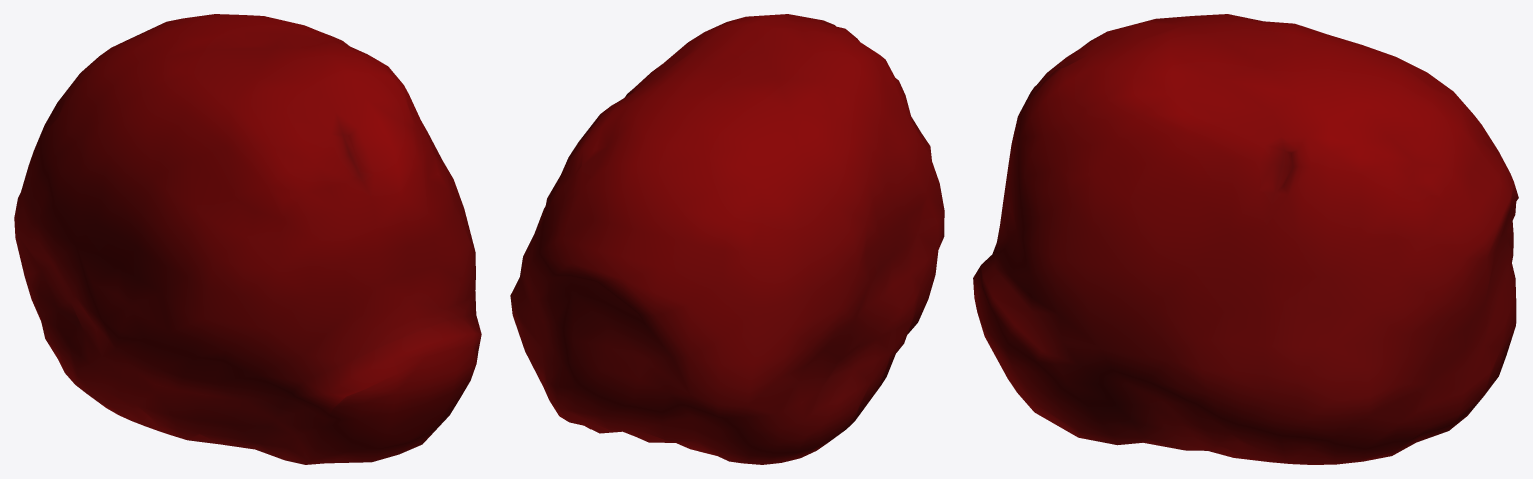
The model's file is geology-rocks-rocklarge_v5.fbx.
The picture shows the model from 3 angles, left to right: view 1: azimuth 30°, elevation 25°; view 2: azimuth 150°, elevation 25°; view 3: azimuth 270°, elevation 25°; orthographic projection. The views are drawn at different scales.
Visible parts, largest first — view 1: RockLarge_v5; view 2: RockLarge_v5; view 3: RockLarge_v5.
Boxes of the visible parts, box(x1,y1,x2,y2) form: RockLarge_v5: box(14, 14, 481, 464); RockLarge_v5: box(510, 14, 944, 464); RockLarge_v5: box(973, 14, 1518, 464).
Size of the model in its own units: 8.23 by 8.18 by 10.48.
